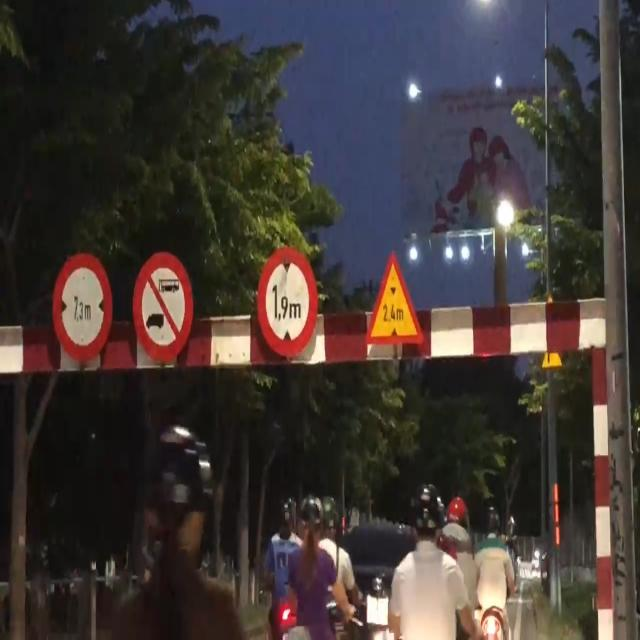Bien bao cam xe oto khach va xe oto tai: (130, 246, 198, 368)
Bien bao chieu cao tinh khong thuc te: (365, 244, 434, 353)
Bien bao han che chieu cao: (254, 240, 324, 361)
